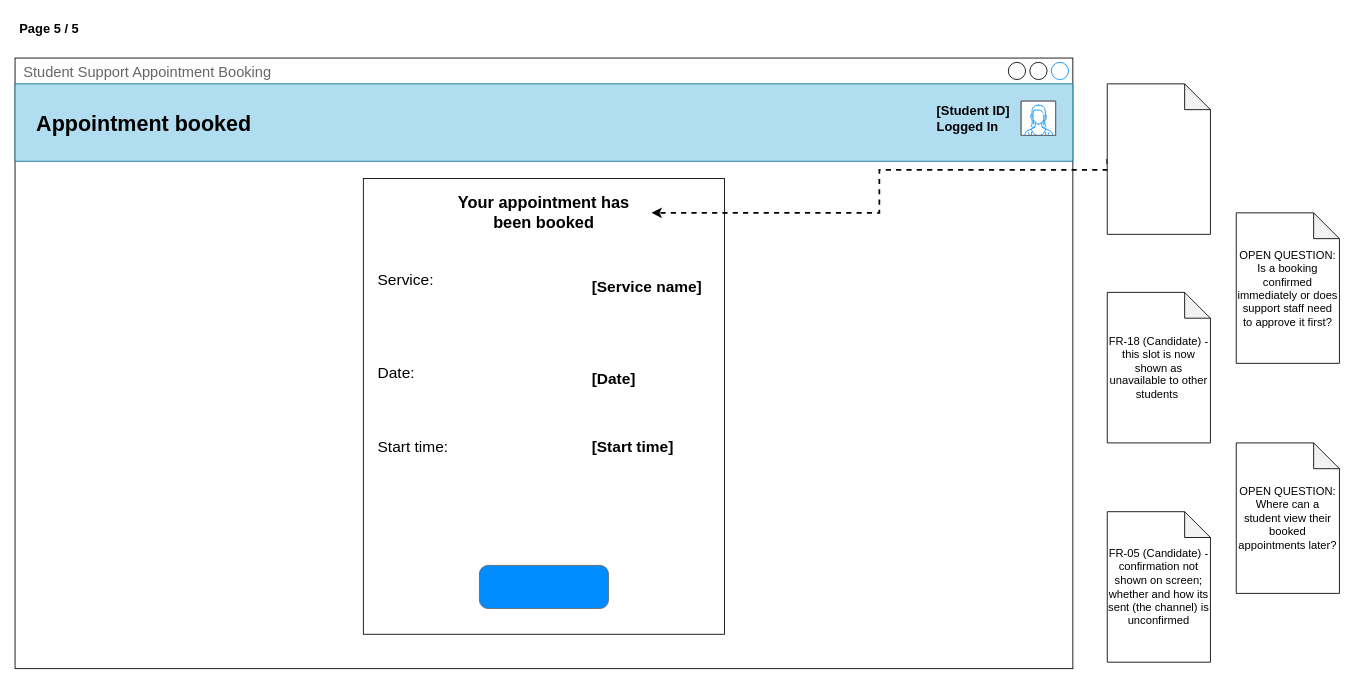
Image size: 1355x684. Some labels were removed from this diagram. Here are the shapes that lost their labels. From the top down, the centre of each, then its label:
At (1158,158): "FR-04 - booking is recorded for the student".
At (543,586): "Back to services".
